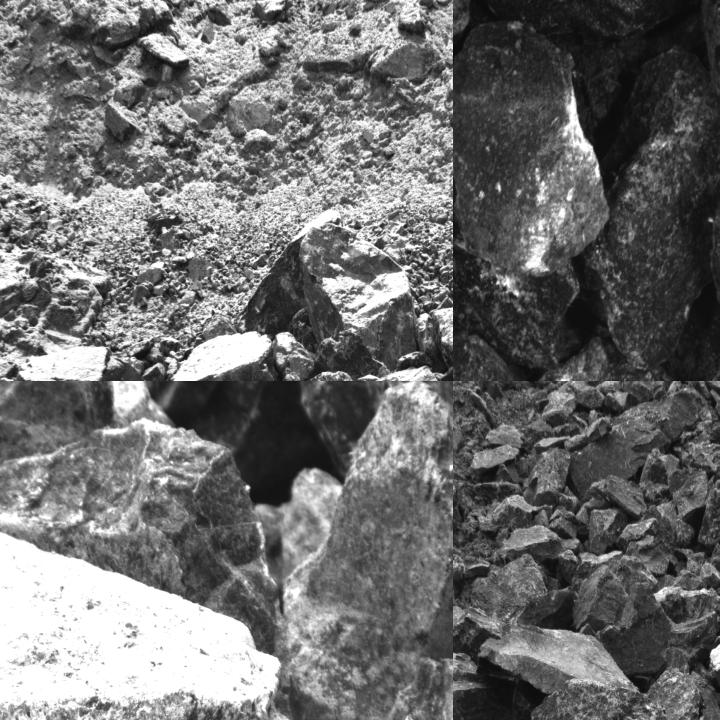stone: (0, 526, 363, 719), (0, 417, 283, 659), (276, 381, 452, 719), (573, 47, 719, 370), (453, 20, 608, 279), (453, 119, 581, 371), (298, 225, 420, 374), (566, 391, 707, 510), (599, 581, 718, 686), (484, 622, 638, 694), (463, 0, 701, 42), (235, 226, 314, 335), (453, 653, 551, 719), (0, 345, 171, 380), (529, 680, 672, 719), (172, 327, 275, 380), (453, 602, 507, 669), (574, 563, 626, 630), (316, 328, 380, 380), (525, 446, 570, 507), (670, 468, 710, 530), (497, 528, 564, 562), (272, 330, 318, 378), (592, 479, 647, 518), (639, 455, 681, 506), (588, 507, 630, 554), (698, 489, 719, 581), (469, 444, 520, 481), (491, 496, 537, 534), (430, 301, 452, 380), (474, 482, 521, 511), (483, 424, 524, 449), (276, 371, 358, 380)
